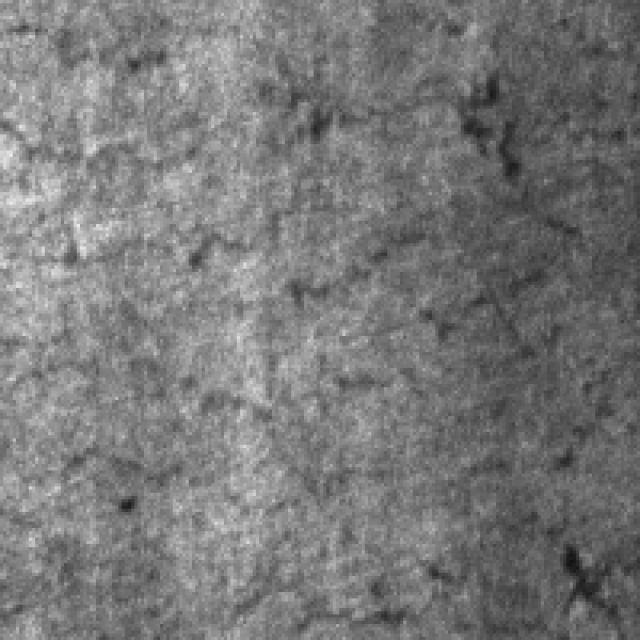crazing: (13, 54, 435, 310), (228, 198, 614, 468), (0, 355, 432, 499), (202, 41, 544, 182)
